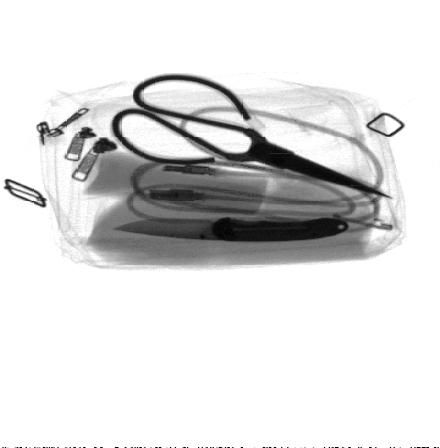Knife: (109, 216, 351, 243)
Scissors: (110, 73, 392, 199)
